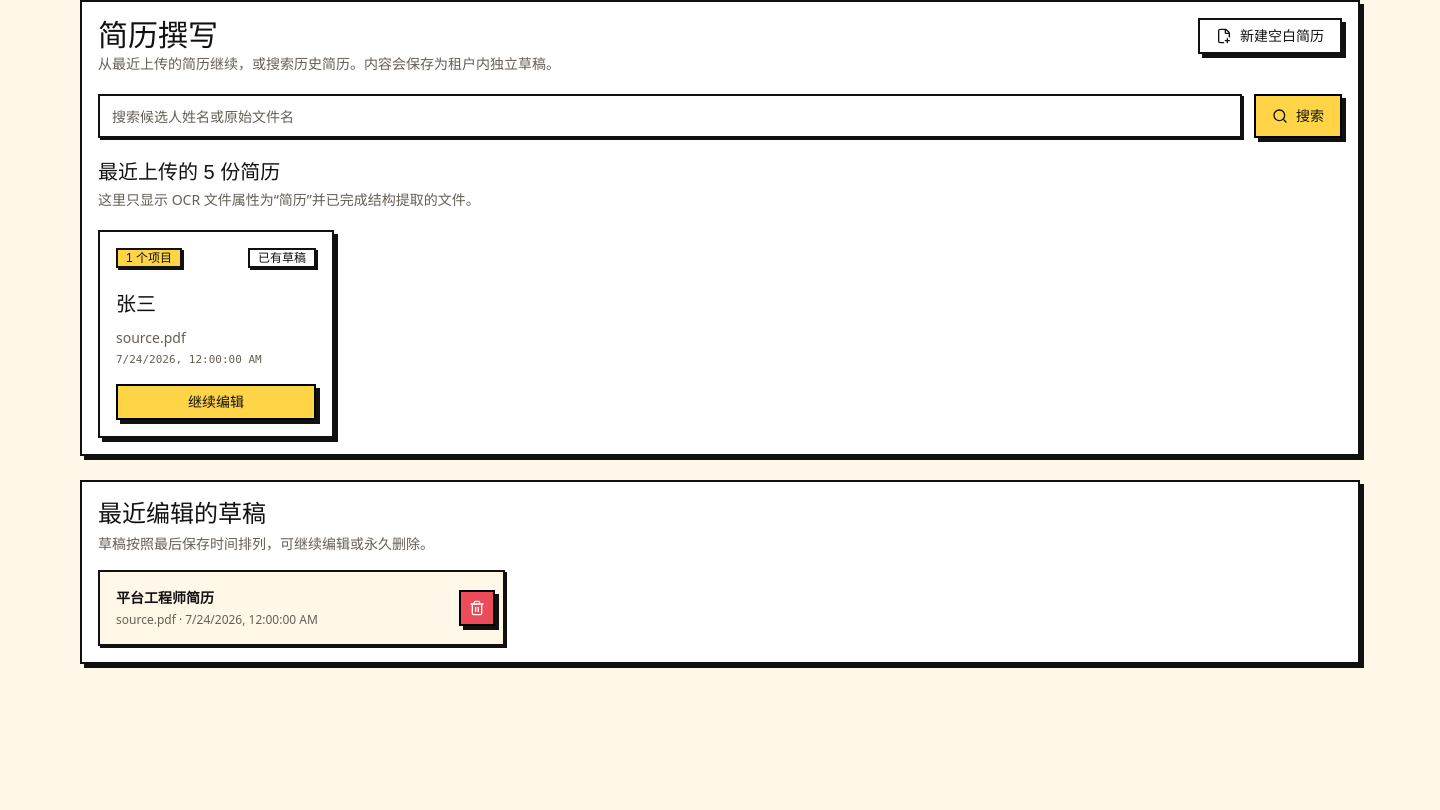
Test: resume writer template and project materials › confirms and deletes a recent draft, then refreshes its source state
Step 1. Click the button named "删除草稿 平台工程师简历" → point(477, 608), box left=459, top=590, right=495, bottom=626
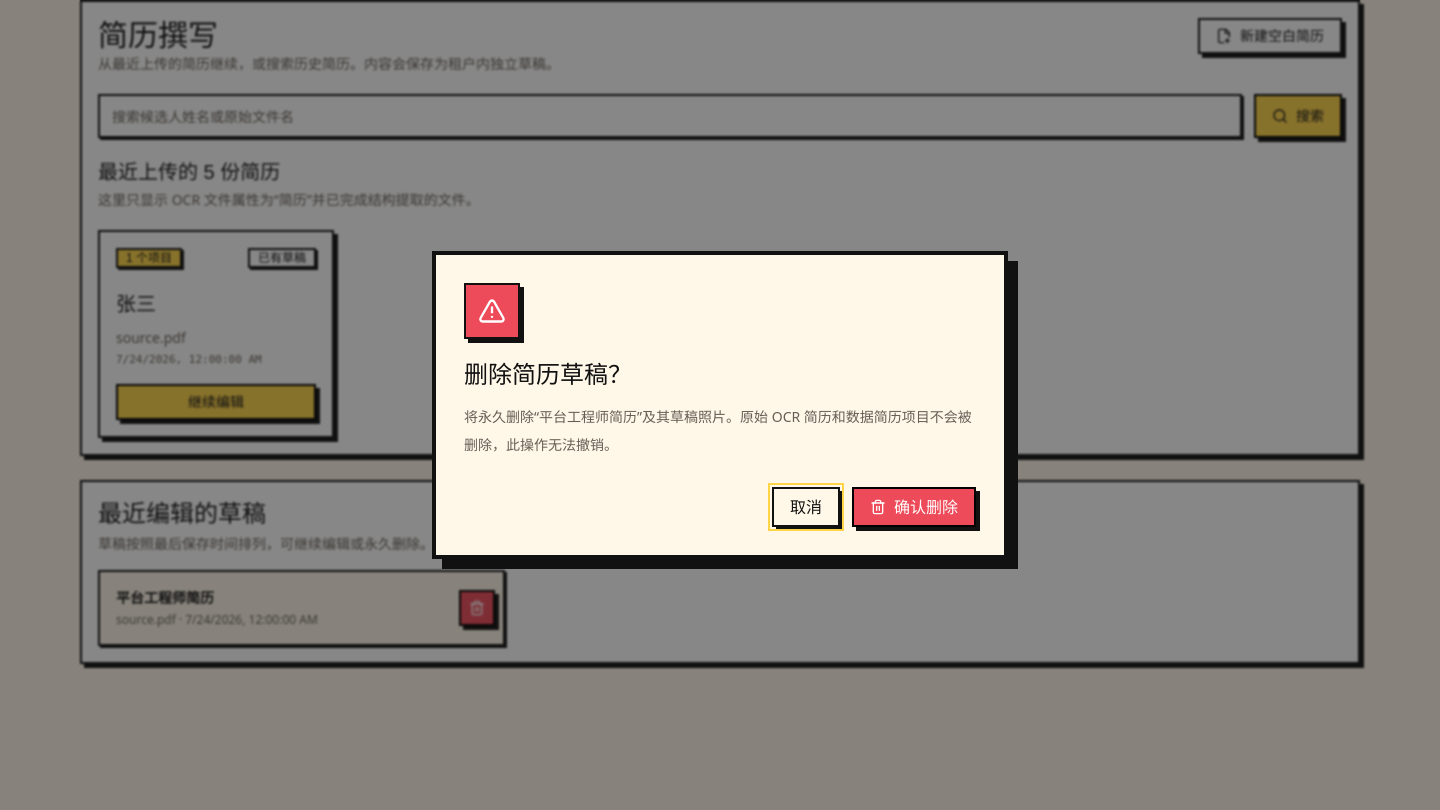
Check: the heading "删除简历草稿？" is shown, box left=464, top=361, right=632, bottom=388
Check: the text "将永久删除“平台工程师简历”及其草稿照片。原始 OCR 简历和数据简历项目不会被删除，此操作无法撤销。" is shown, box left=464, top=403, right=976, bottom=459
Step 2. Click the button "确认删除" → point(914, 507), box left=852, top=487, right=976, bottom=527
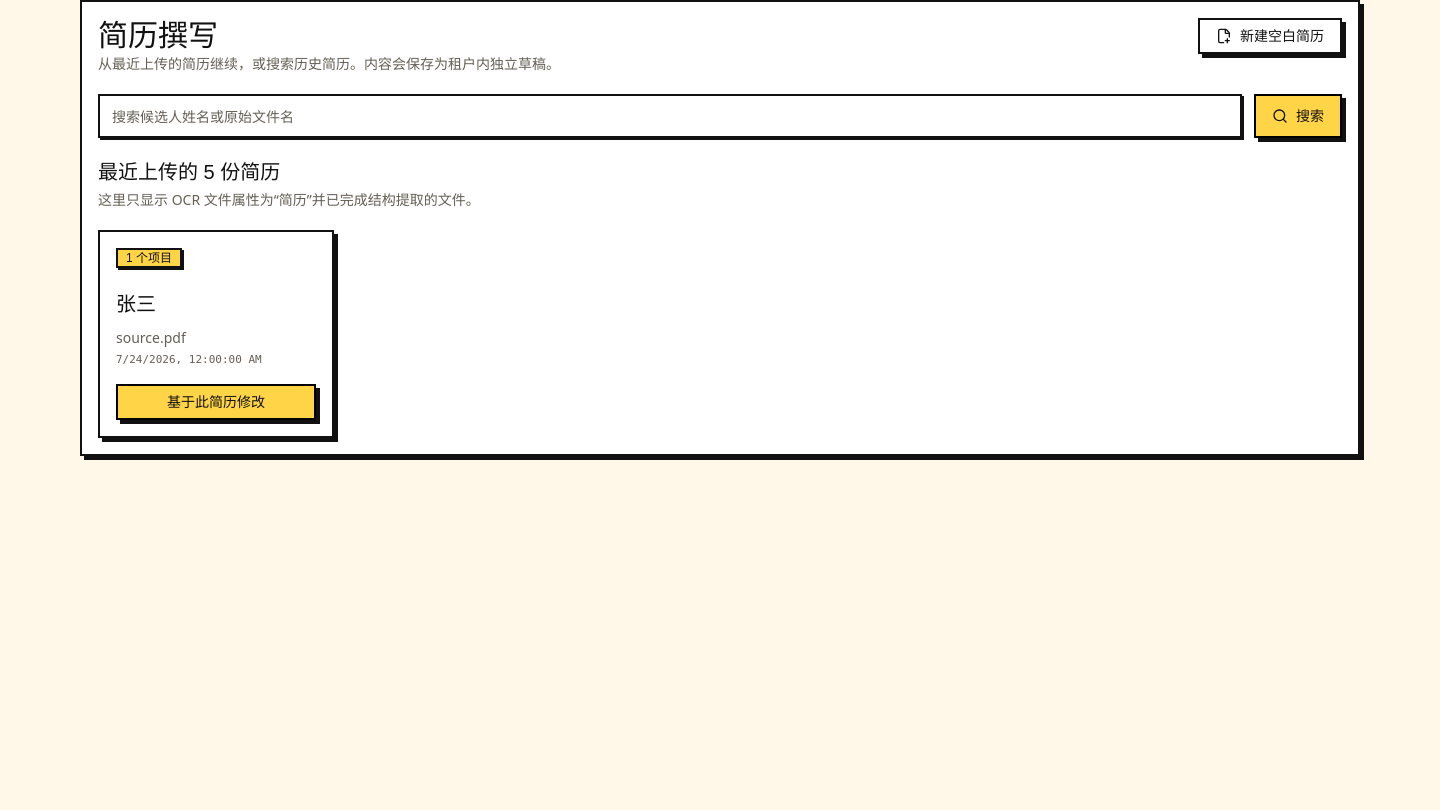
Check: the button "基于此简历修改" is shown, box left=116, top=384, right=316, bottom=420
